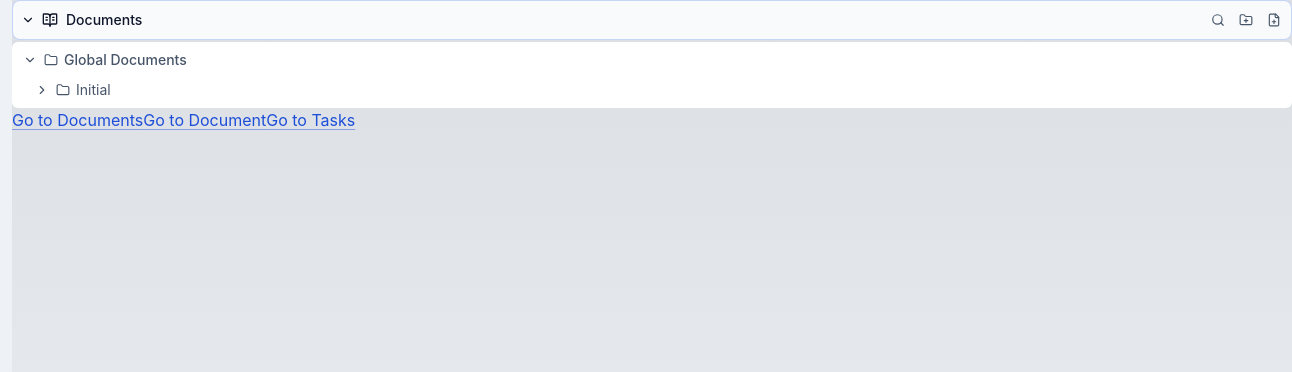
Test: DocumentsSidebarSection › refreshes the document tree once when a document route auto-expands it
Expected: the text "Initial" is shown, top-left (76, 81), bottom-right (111, 98)
Click the link "Go to Tasks" at [311, 120], box top-left (266, 110), bottom-right (355, 130)
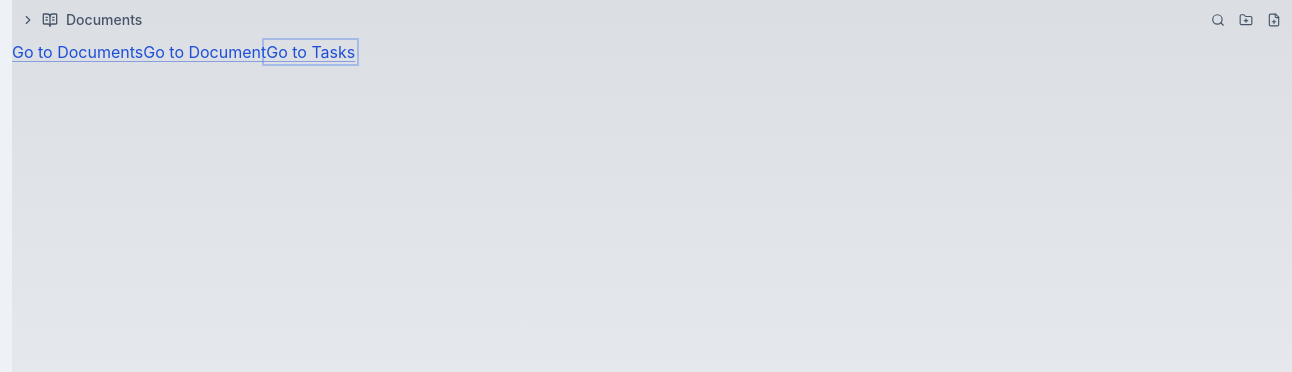
Click the link "Go to Document" at [205, 52], box top-left (143, 42), bottom-right (266, 62)
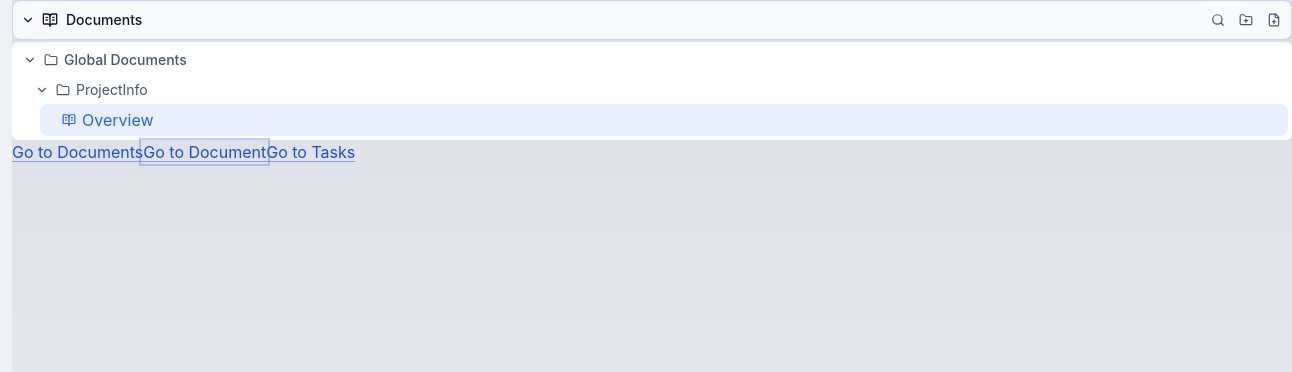
Expected: the text "Overview" is shown, top-left (82, 110), bottom-right (154, 130)
